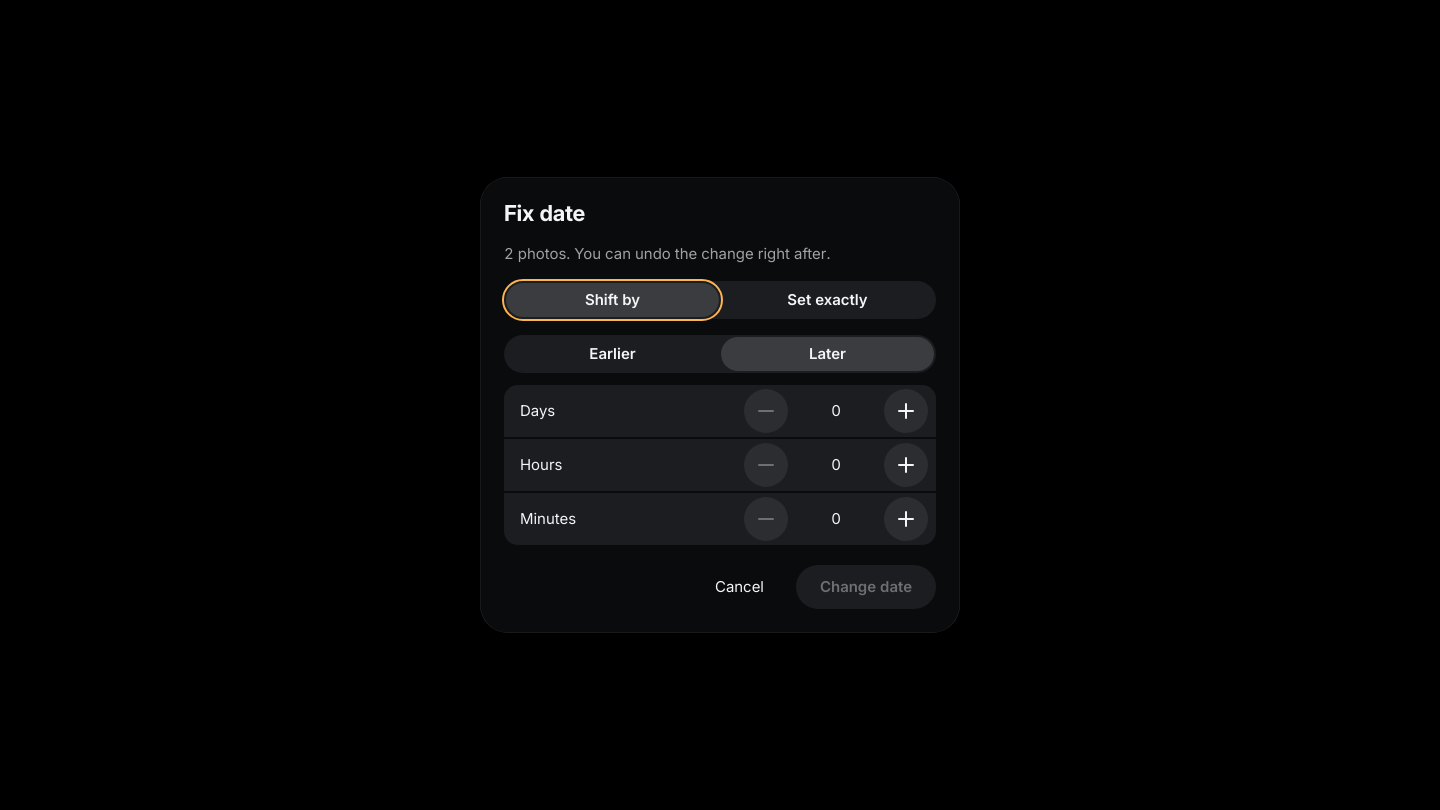
Test: FixDateDialog › a shift out of the calendar says so in a sentence, and nothing breaks
The width and height of the screenshot is (1440, 810).
Step 1. Replace the text in the number field labelled "days" with "99999999" → x=836, y=410, box [796,392,876,429]
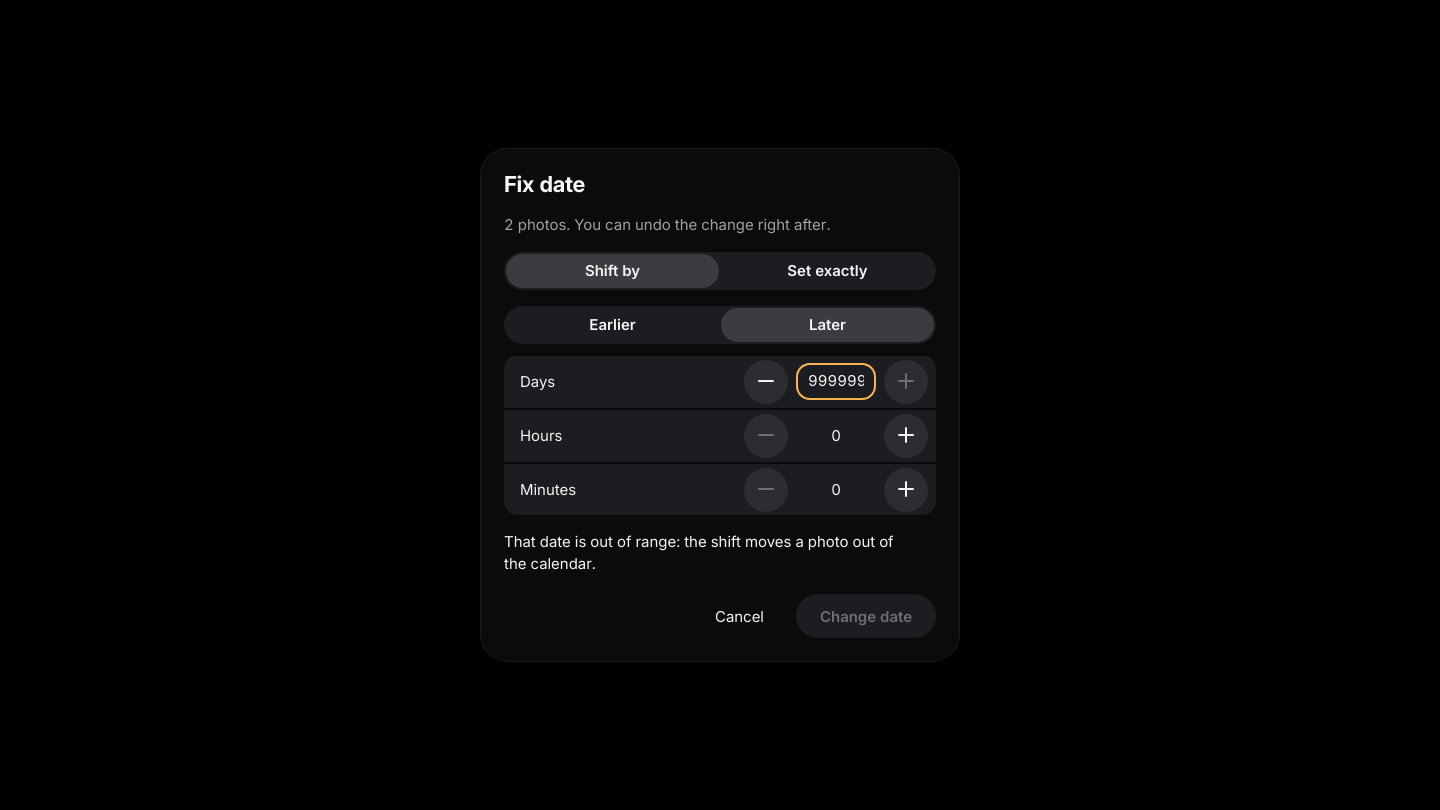
Expected: the button "Change date" is disabled, [796,594,936,638]
Expected: the message shows "out of range", [504,532,894,573]
// Put right, the preview and the button are back.
Step 2. Replace the text in the number field labelled "days" with "1" → x=836, y=381, box [796,362,876,400]
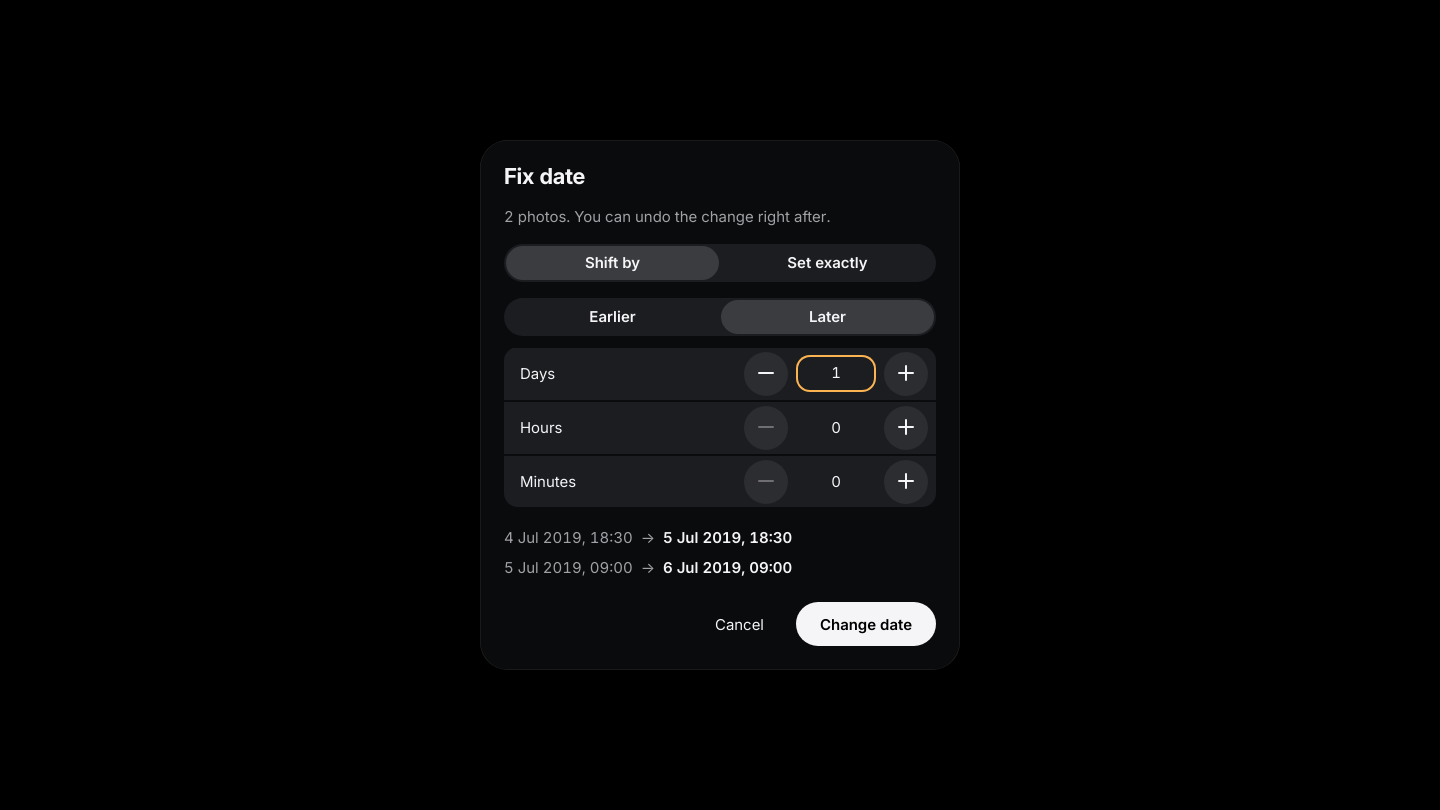
Expected: the cell "5 Jul 2019, 18:30" is shown, [663,523,800,553]
Expected: the button "Change date" is enabled, [796,602,936,646]
